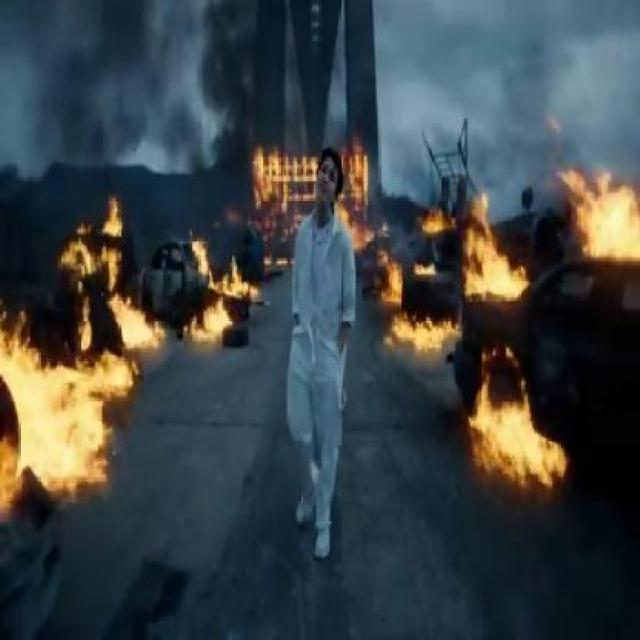fire: (1, 348, 110, 477), (85, 246, 168, 362), (477, 349, 552, 477), (561, 173, 640, 268), (466, 207, 520, 293), (396, 301, 453, 354), (256, 153, 299, 221), (200, 275, 237, 354), (344, 138, 370, 228)
smoke: (0, 2, 192, 184), (195, 9, 294, 146), (501, 54, 588, 183), (380, 117, 449, 206), (301, 42, 357, 141)
